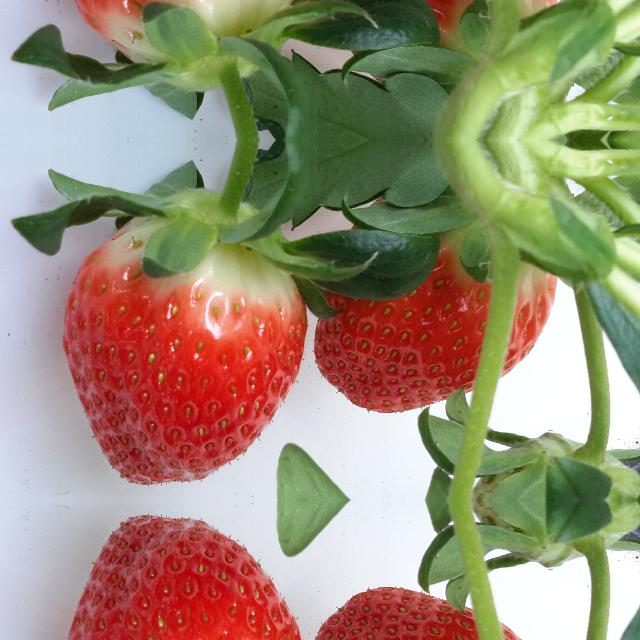Health_100: (61, 214, 306, 483), (314, 178, 556, 412), (61, 516, 306, 640), (314, 0, 555, 102), (61, 0, 306, 65), (314, 588, 555, 640)
